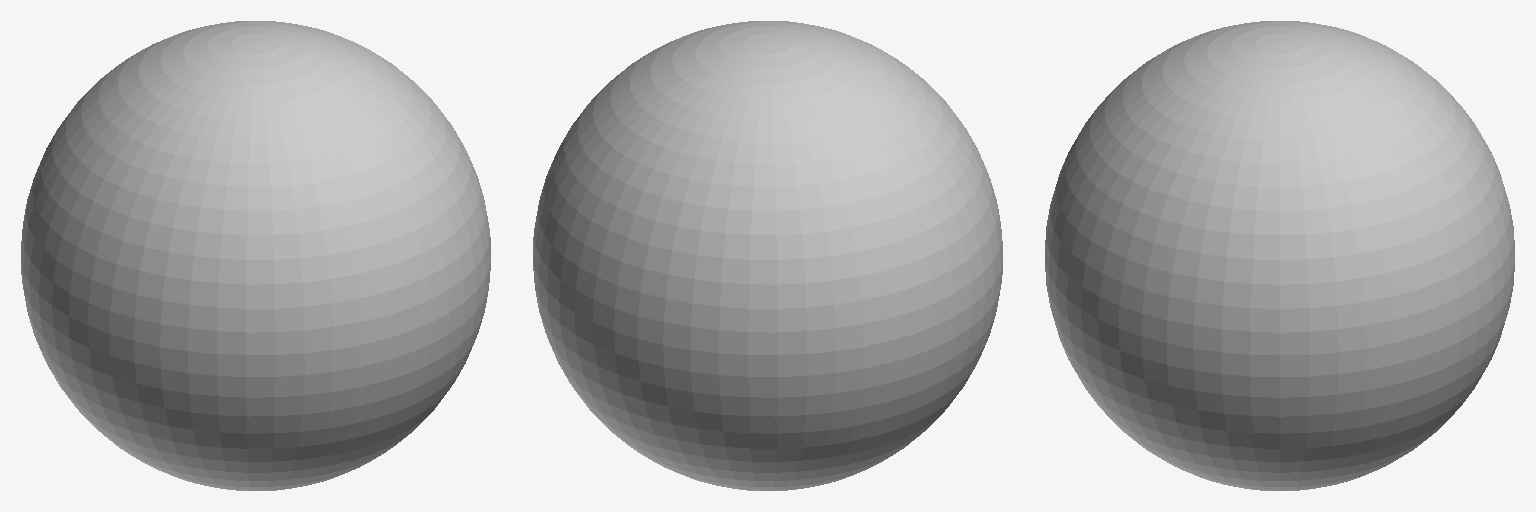
The model's file is disco.obj.
The picture shows the model from 3 angles: view 1: azimuth 30°, elevation 25°; view 2: azimuth 150°, elevation 25°; view 3: azimuth 270°, elevation 25°; orthographic projection.
Bounding box in the file's own units: 2 × 2 × 2.